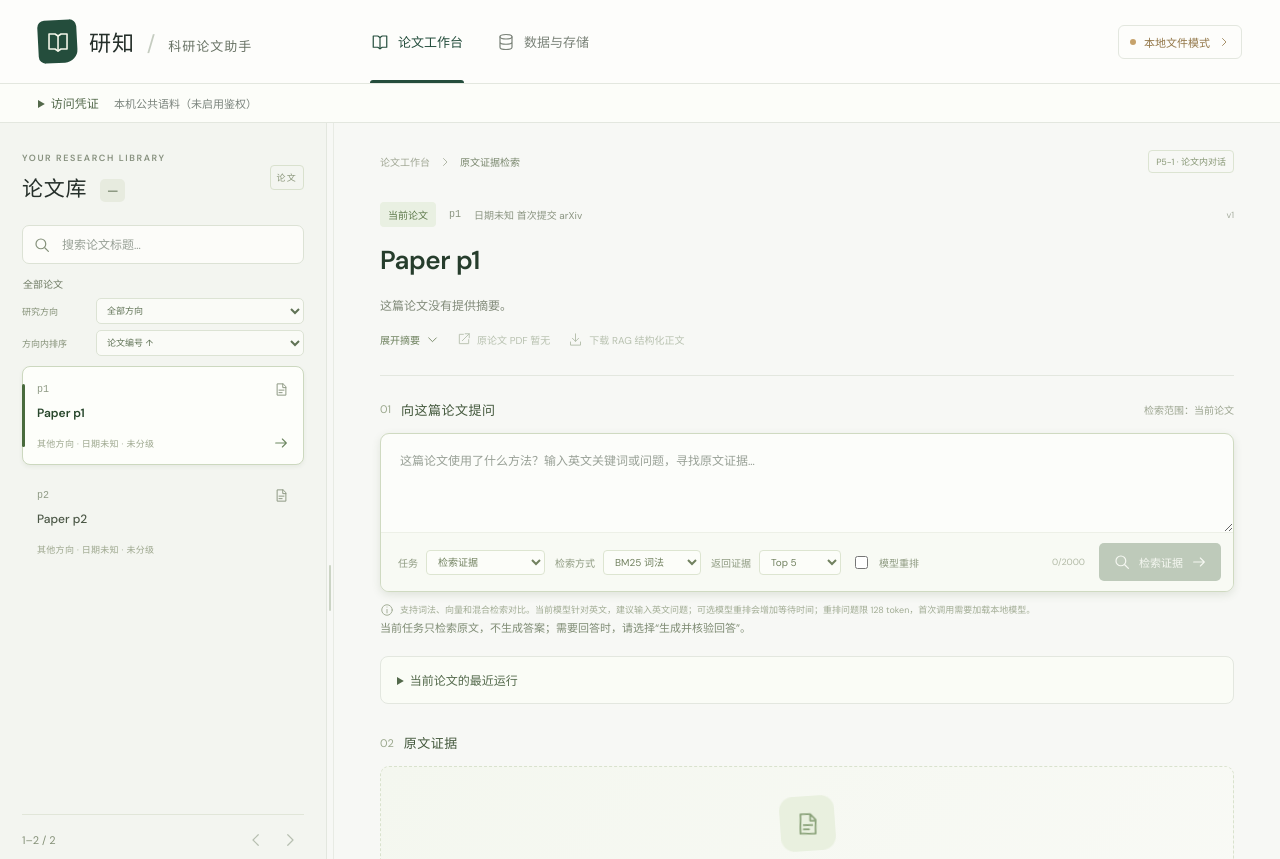
Test: does not claim deletion when the server rejects clear
Expected: the heading "Paper p1" below "首次提交 arXiv" is shown, [380,243,480,277]
Select "生成并核验回答" in the dropdown labelled "任务" at (486, 562), box [426,550,545,575]
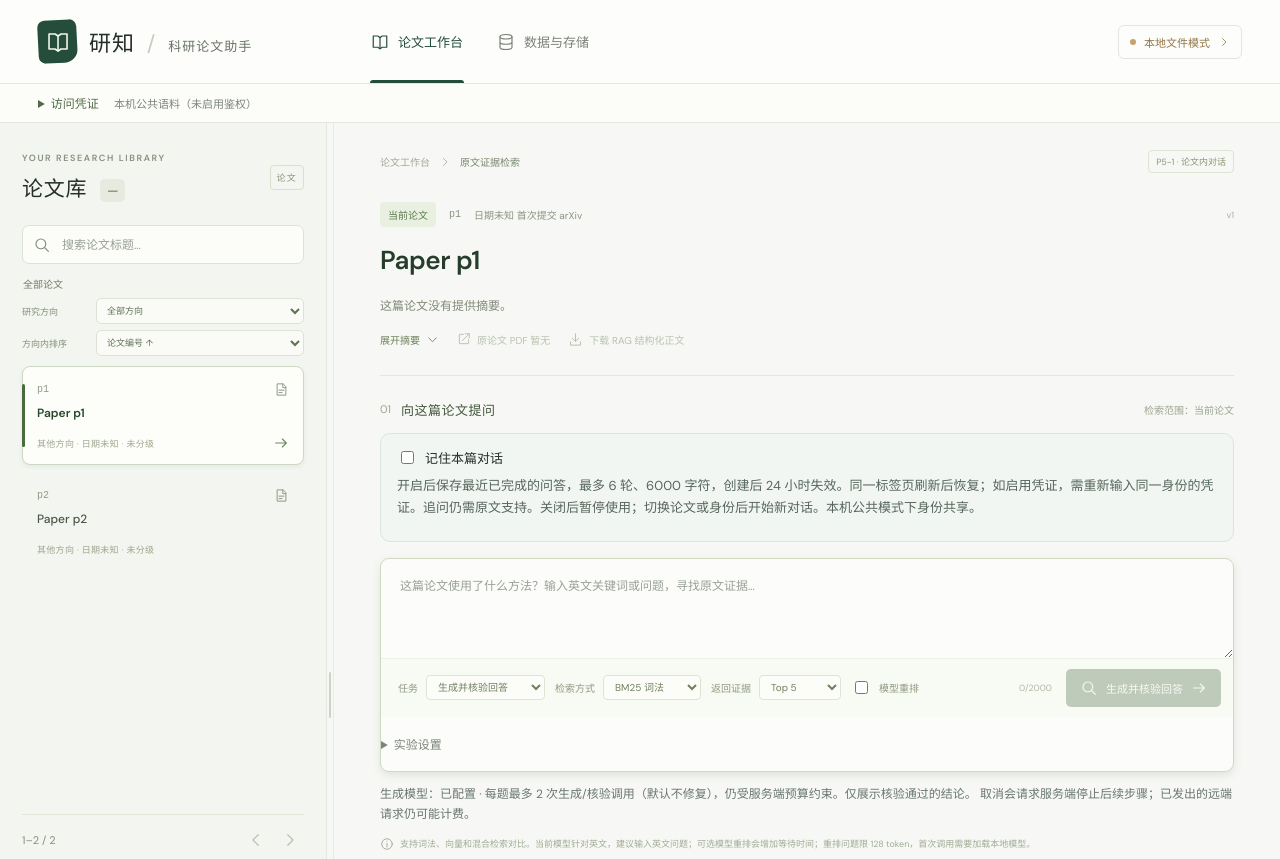
Click the checkbox labelled "记住本篇对话" at (408, 457), box [401,451,414,464]
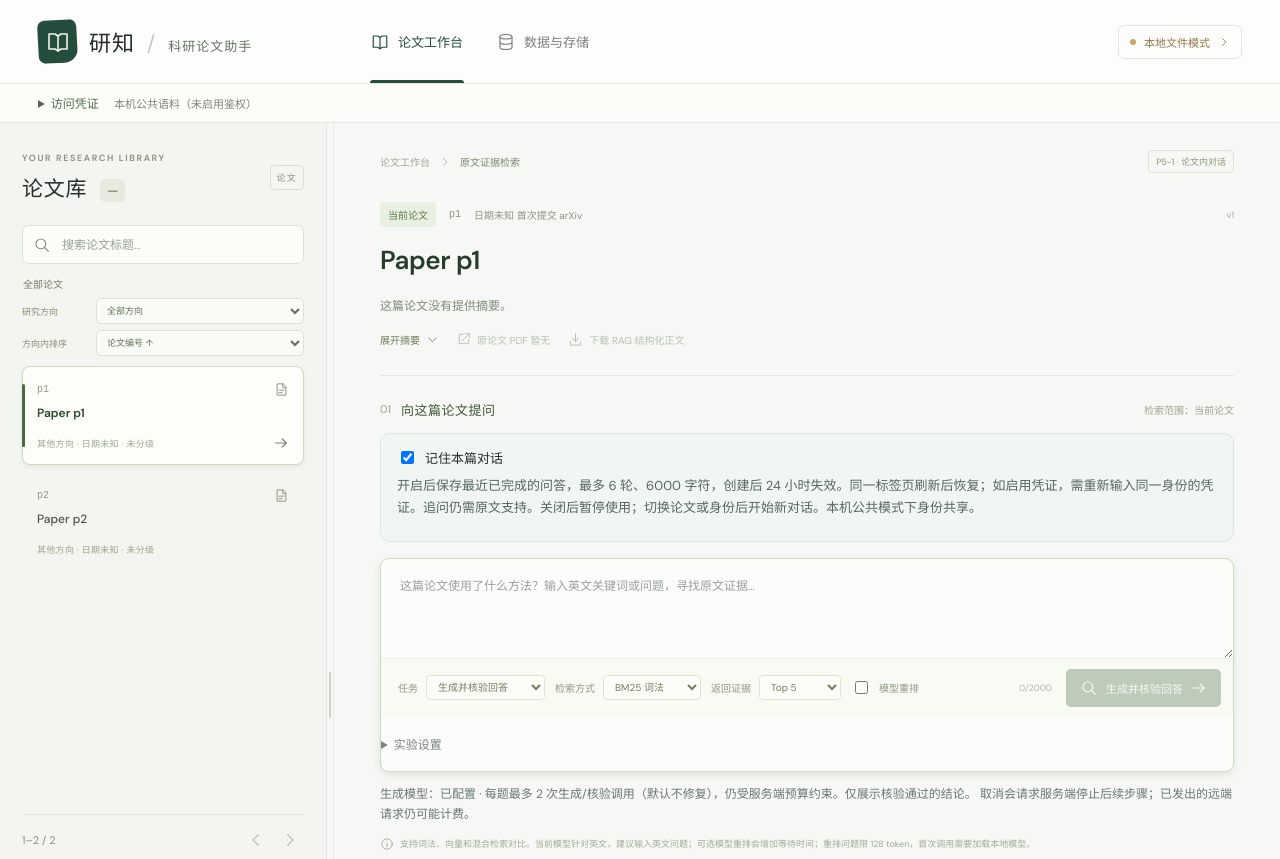
Type "alpha method" into the text box named "输入检索问题" at (807, 608), box [381,559,1233,658]
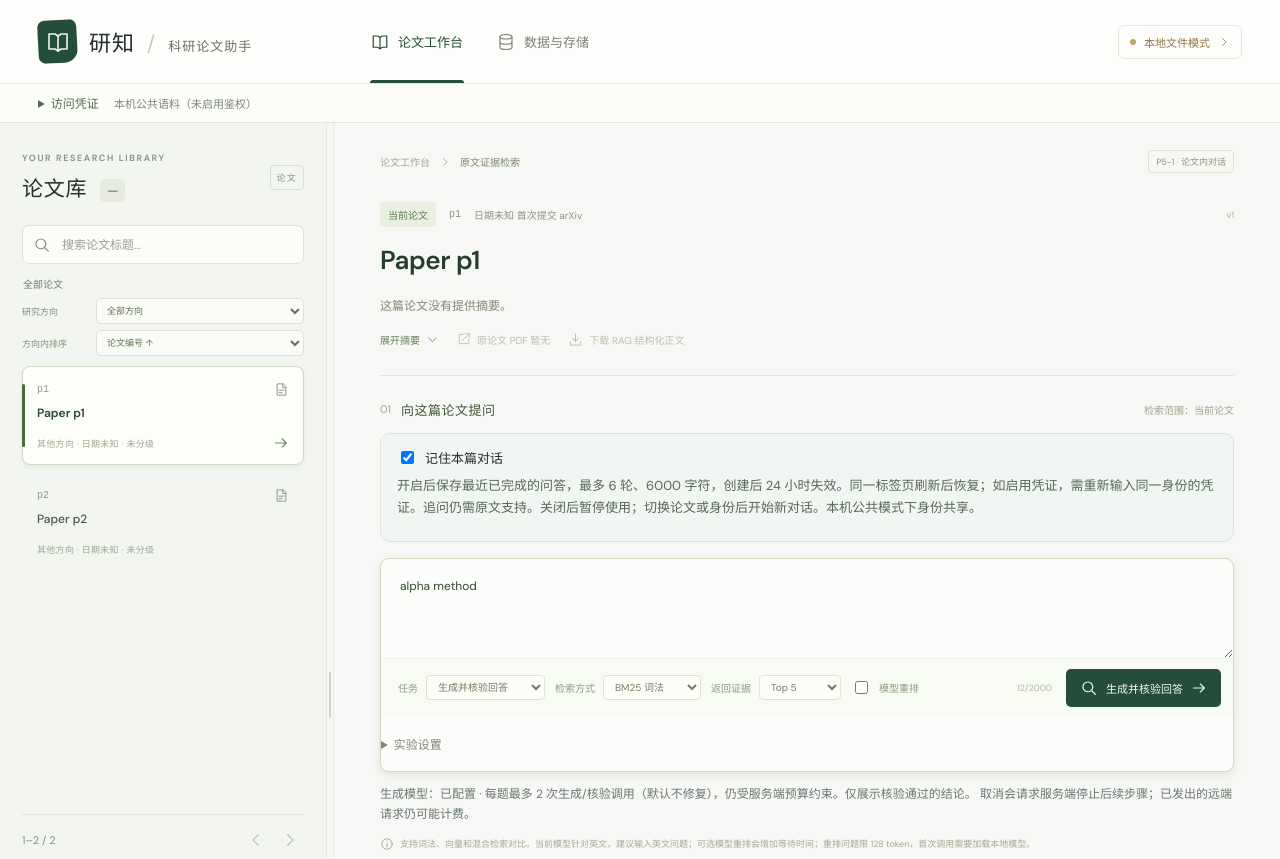
Click the button "生成并核验回答" at (1144, 688), box [1066,669,1221,707]
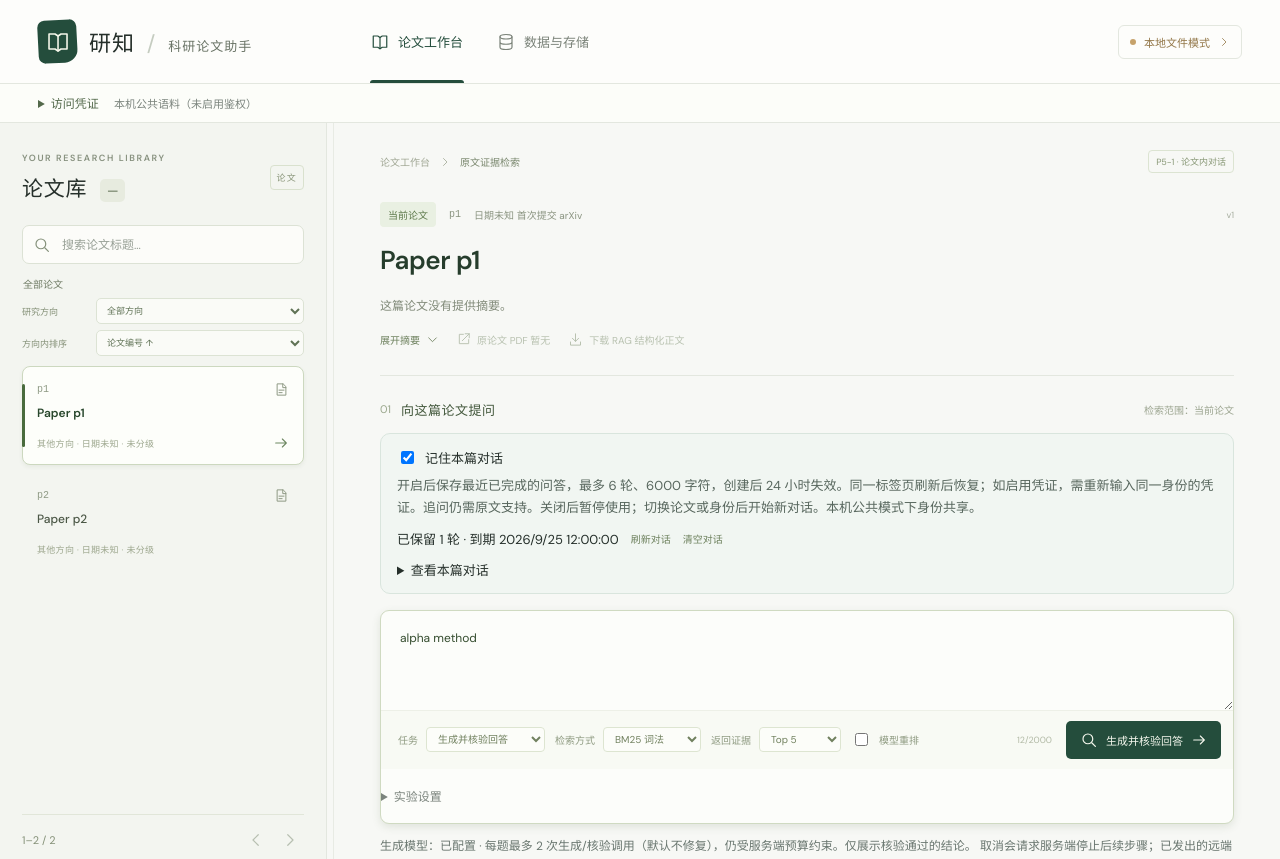
Now the text "已保留 1 轮 · 到期 2026/9/25 12:00:00" is shown, box [397,529,619,548]
Click the button "清空对话" at (703, 538), box [683,527,723,550]
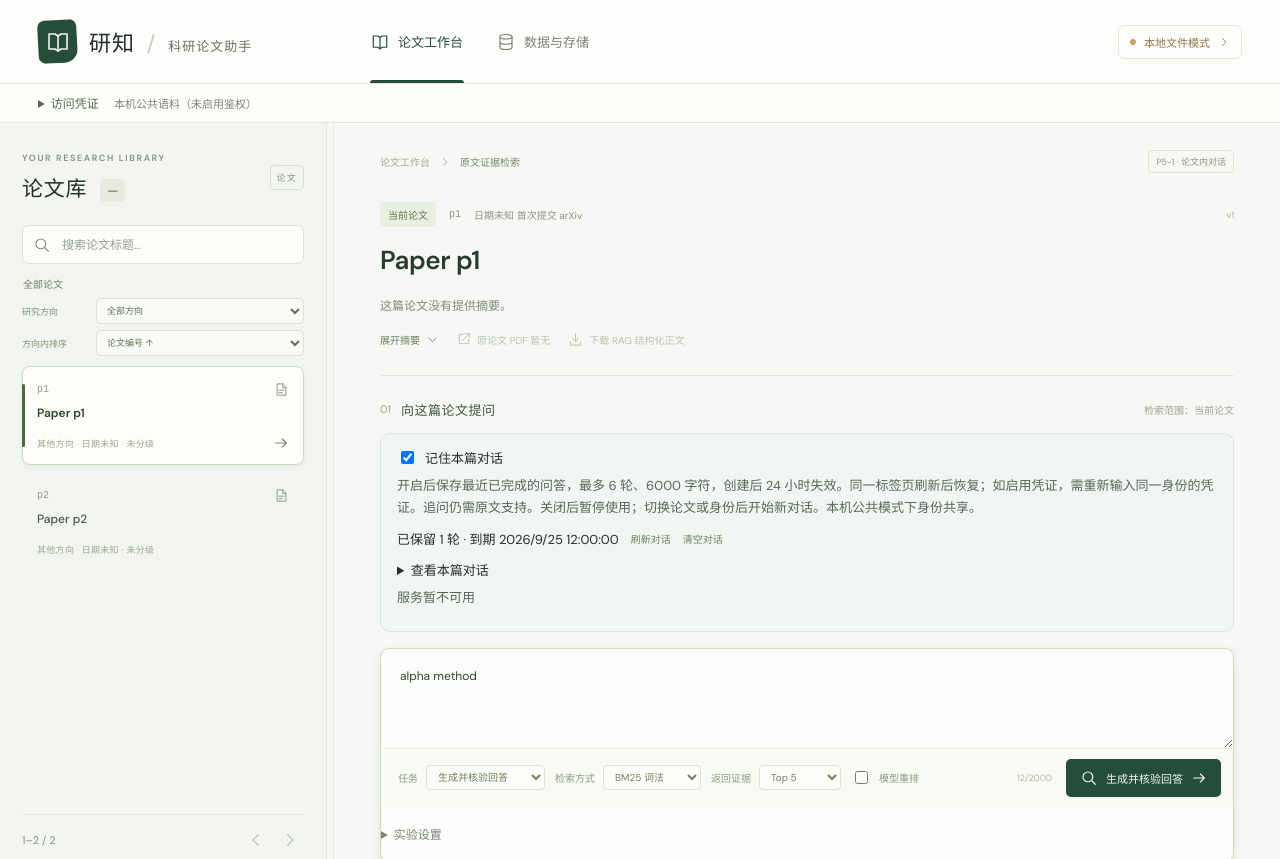
Now the text "已保留 1 轮 · 到期 2026/9/25 12:00:00" is shown, box [397,529,619,548]
Now the text "服务暂不可用" is shown, box [397,589,475,606]
